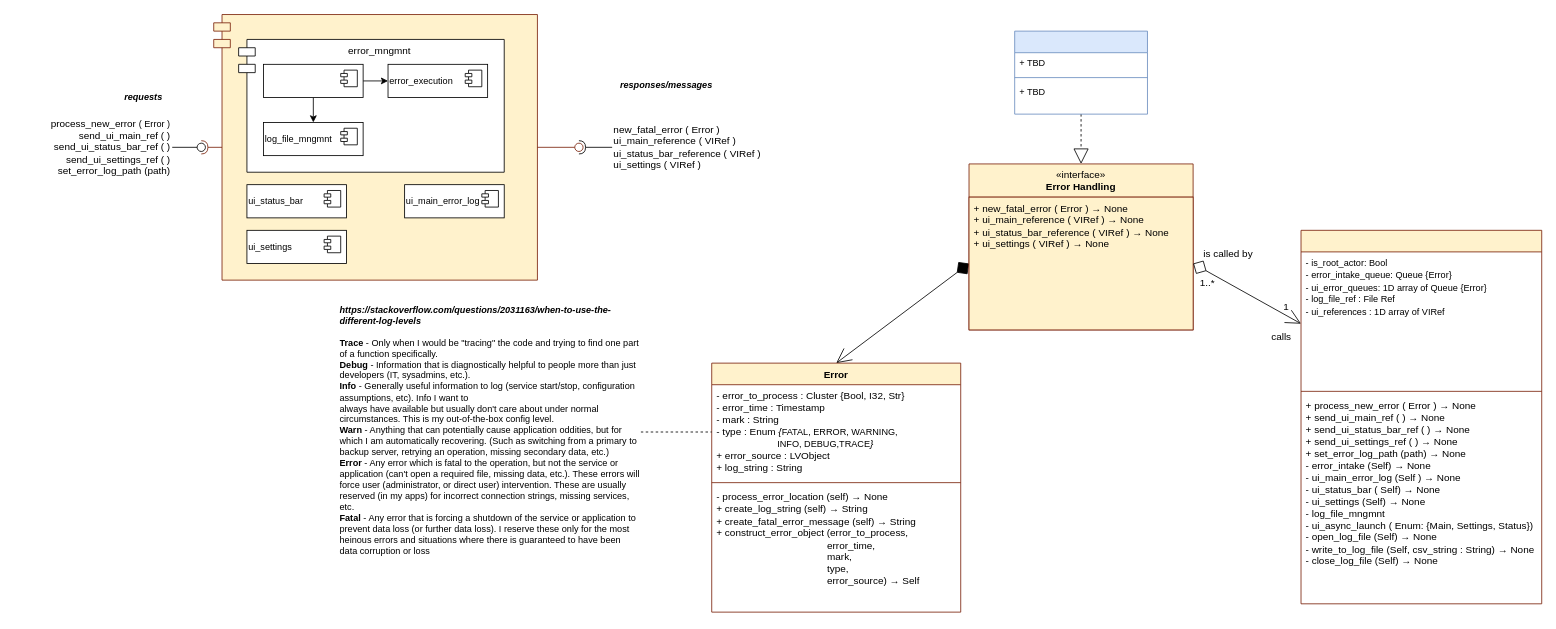
The diagram is 1556 pixels wide and 629 high, and some of its shapes have lost their labels. Here are the shapes that lost their labels. From the top down, the box of each, then its label:
(263, 63, 363, 98): error_intake
(1014, 30, 1147, 114): Controller
(213, 14, 537, 280): Error Handling Module
(1300, 229, 1542, 604): Error Handling
